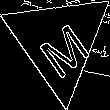M_NW: (28, 8, 90, 75)
